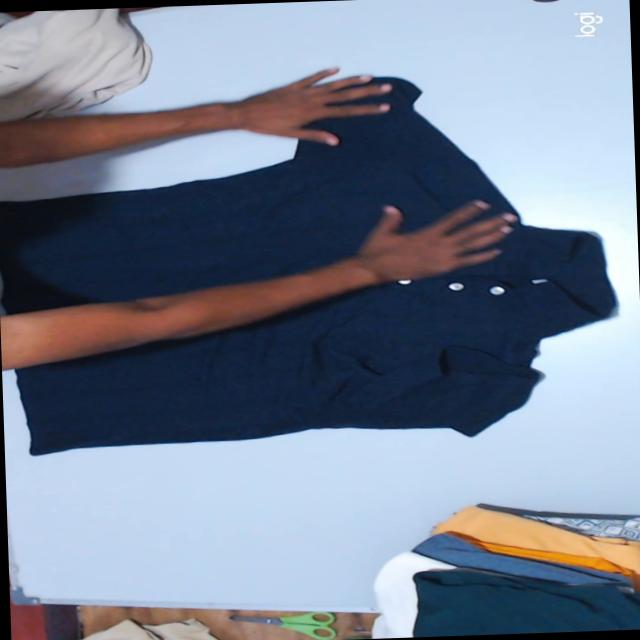new-garment: (17, 225, 614, 454), (0, 76, 513, 311)
